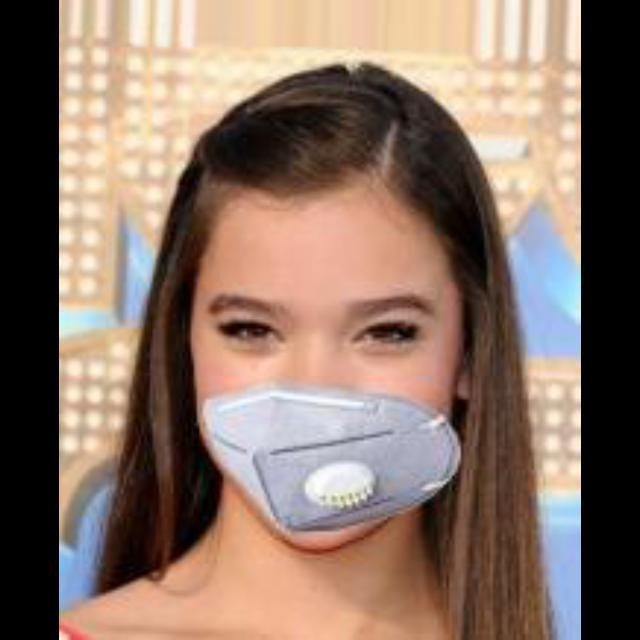suspicion: (190, 120, 488, 552)
